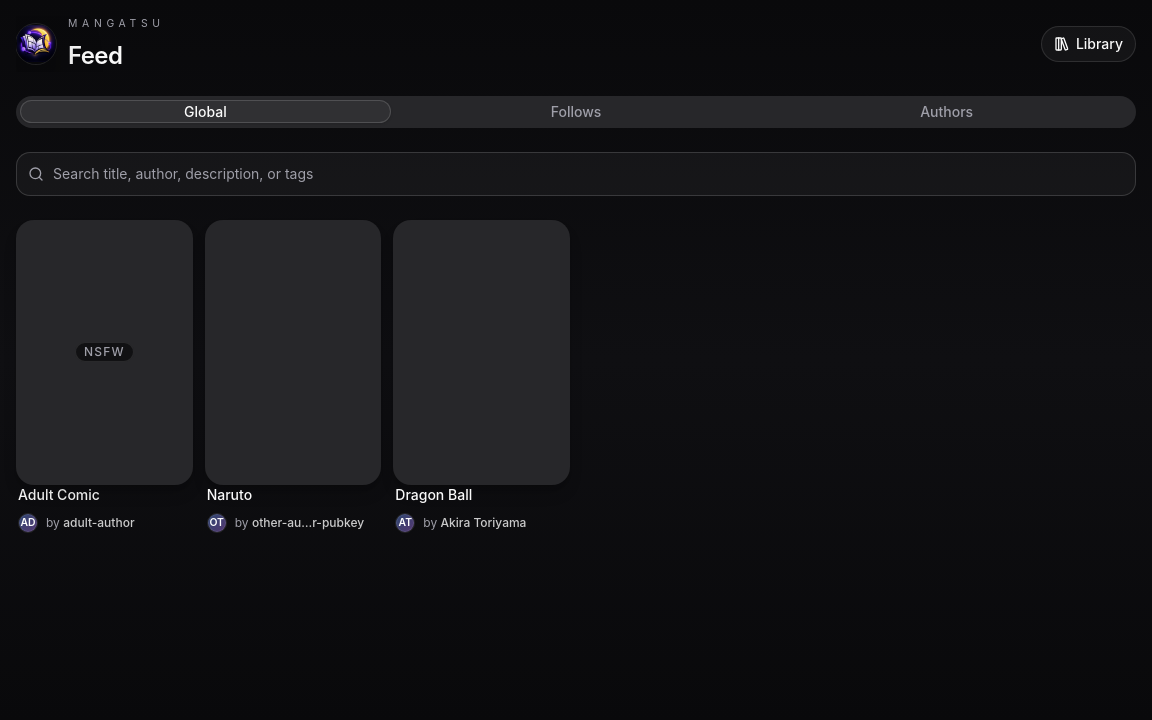
Test: FeedScreen › clicking Follows tab shows follows empty state when no contacts
Click the tab "Follows" at [576, 112], box [391,100,761,123]
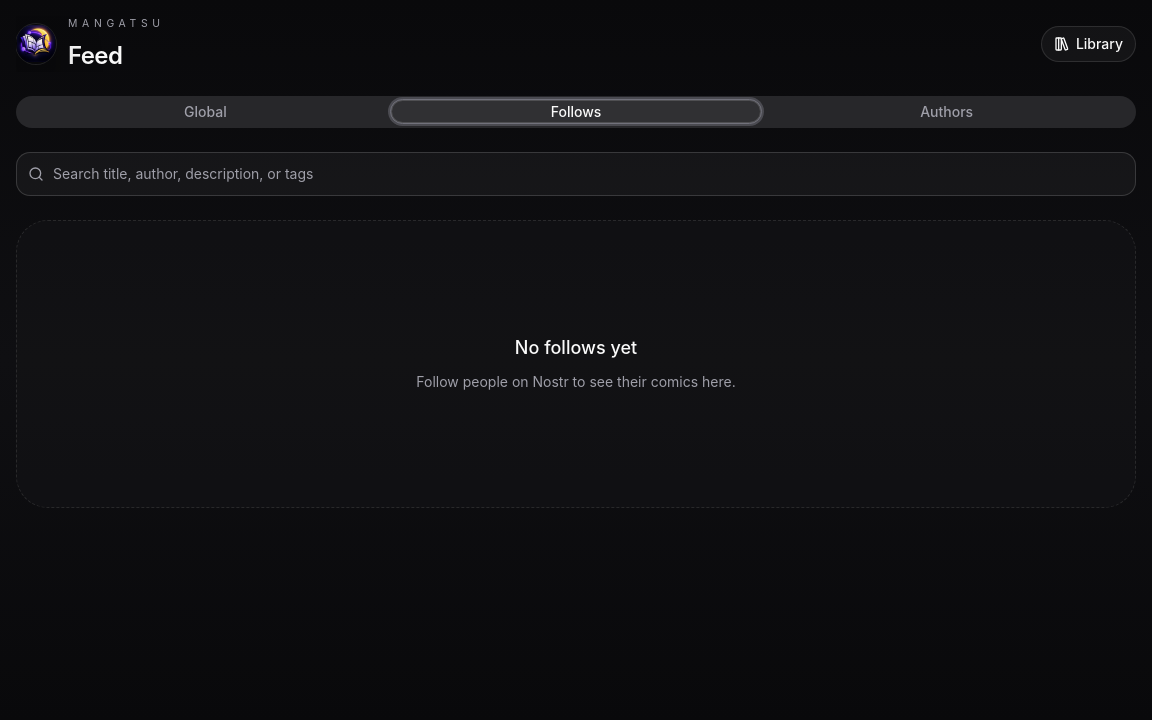
Expected: the text "Follow people on Nostr to see their comics here." is shown, [416,370,736,394]
